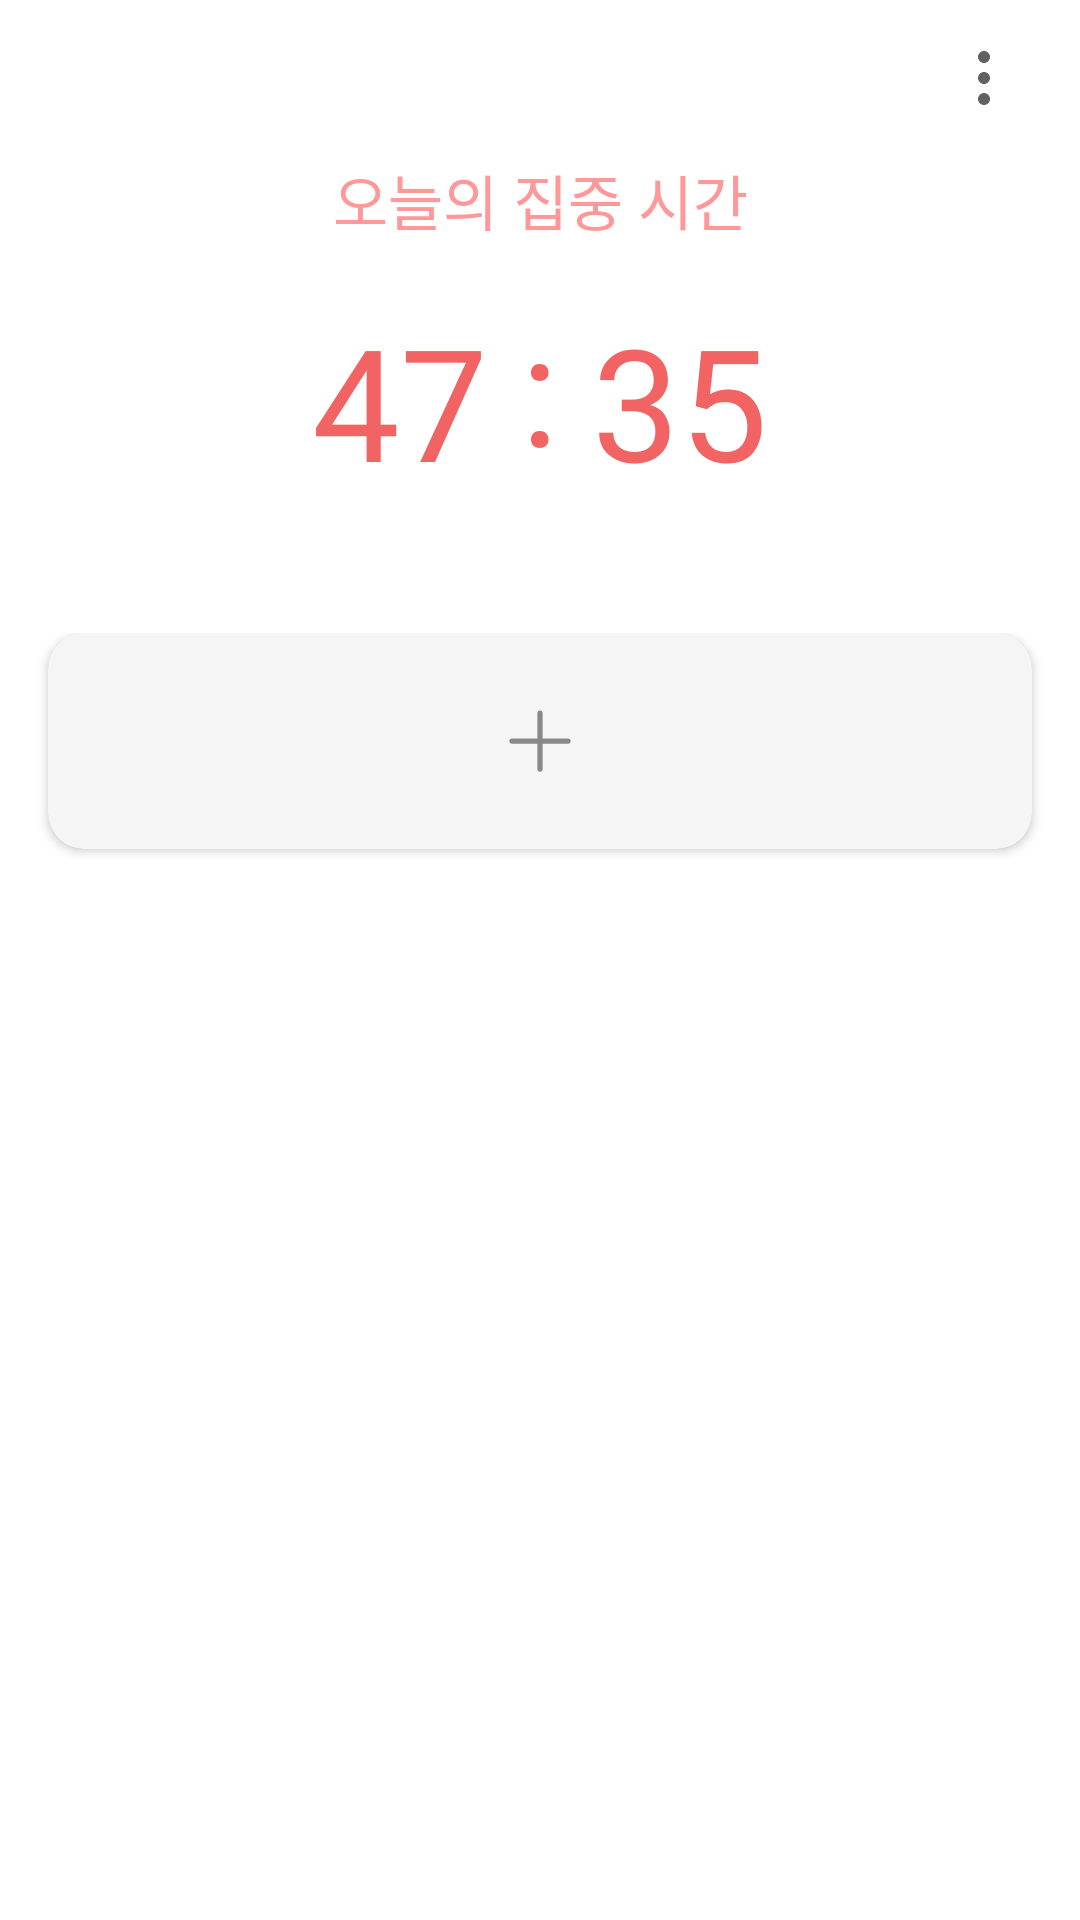

Icon bounding boxes for this 1080 x 1920 phone screenshot, format detection(x1, y1, x2, y2):
menu: detection(978, 51, 990, 105)
plus: detection(509, 710, 571, 772)
